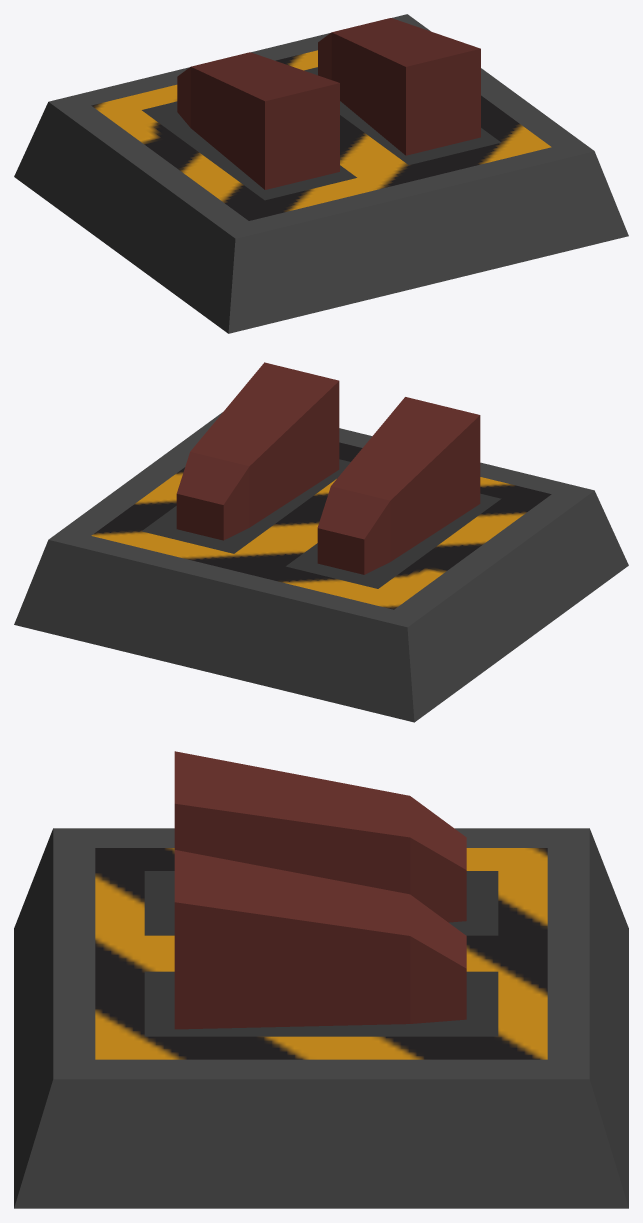
File: SM_Prop_Buttons_01.glb
3 views of the same model, one above another, from view 1: azimuth 30°, elevation 25°; view 2: azimuth 150°, elevation 25°; view 3: azimuth 270°, elevation 25° (orthographic). The views are drawn at different scales.
Visible parts, largest first — view 1: SM_Prop_Buttons_01; view 2: SM_Prop_Buttons_01; view 3: SM_Prop_Buttons_01.
Part boxes in pixels (x1=…): SM_Prop_Buttons_01: x1=14, y1=14, x2=628, y2=333; SM_Prop_Buttons_01: x1=14, y1=362, x2=628, y2=722; SM_Prop_Buttons_01: x1=14, y1=751, x2=628, y2=1208.
Bounding box in the file's own units: 0.1975 × 0.0796 × 0.1833.
Materials: 1 (1 with a texture image).
